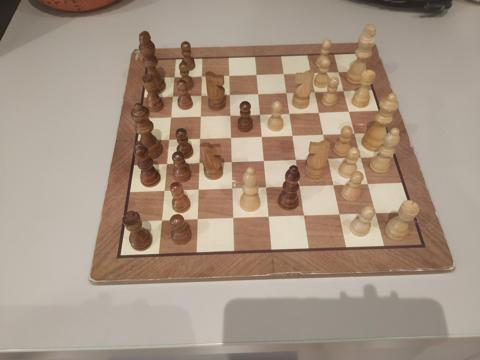xcorner: (154, 216, 164, 226), (295, 181, 305, 191), (329, 180, 339, 190), (356, 152, 366, 162), (161, 134, 171, 144), (224, 132, 234, 142), (287, 130, 297, 140), (318, 129, 328, 139), (349, 128, 359, 138), (193, 110, 203, 120), (223, 109, 233, 119), (164, 90, 174, 100), (280, 87, 290, 97), (337, 85, 347, 95), (277, 68, 287, 78), (191, 215, 201, 224), (227, 214, 237, 223), (264, 212, 273, 222), (300, 211, 309, 221), (372, 208, 381, 218), (157, 186, 166, 196), (226, 184, 236, 193), (364, 179, 373, 189), (159, 159, 169, 168), (192, 158, 202, 167), (225, 157, 235, 166), (258, 156, 268, 165), (324, 153, 333, 163), (193, 133, 202, 143), (256, 131, 265, 141), (163, 111, 172, 121), (253, 109, 263, 118), (283, 108, 293, 117), (313, 107, 323, 116), (343, 106, 353, 115), (193, 90, 203, 99), (222, 89, 232, 98), (251, 88, 261, 97), (309, 86, 318, 96), (166, 71, 175, 81), (194, 70, 203, 80), (249, 69, 259, 78), (305, 67, 314, 77), (332, 67, 342, 76), (336, 210, 345, 219), (192, 185, 201, 194), (261, 183, 270, 192), (291, 155, 300, 164), (222, 70, 231, 79)
